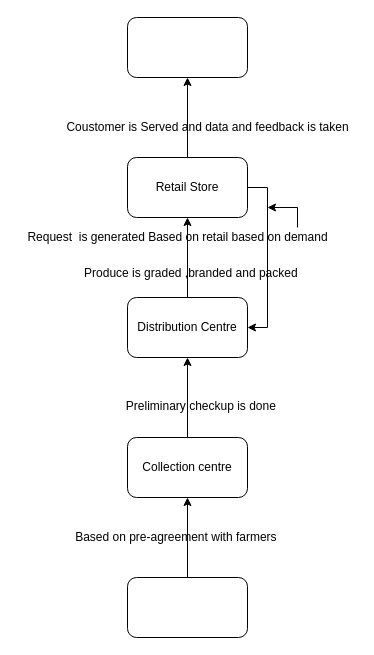
This 374x655 diagram has some shape labels left out. Here are the shapes that lost their labels. From the top down, the box of each, then its label:
(126, 16, 248, 78): Coustomer
(126, 576, 248, 638): Farmer
